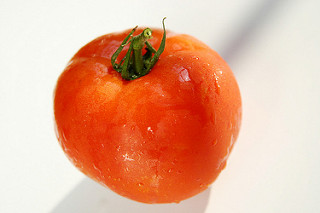tomato: (50, 22, 241, 203)
